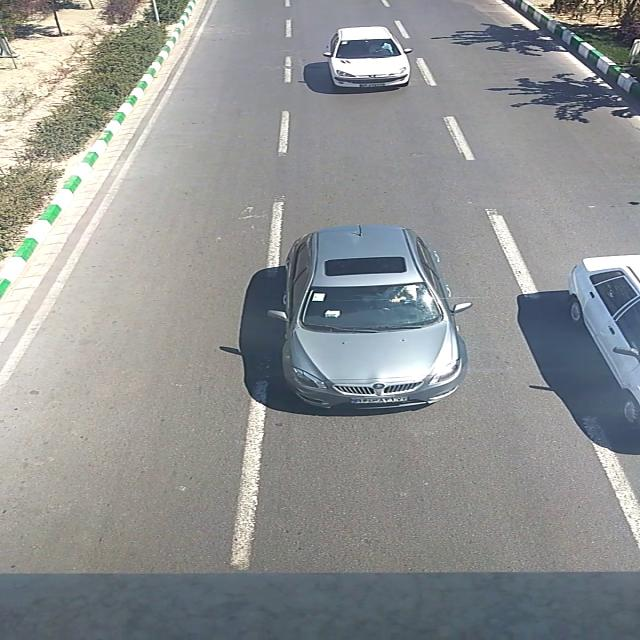car: (266, 223, 474, 410), (565, 255, 640, 425), (324, 27, 414, 92)
